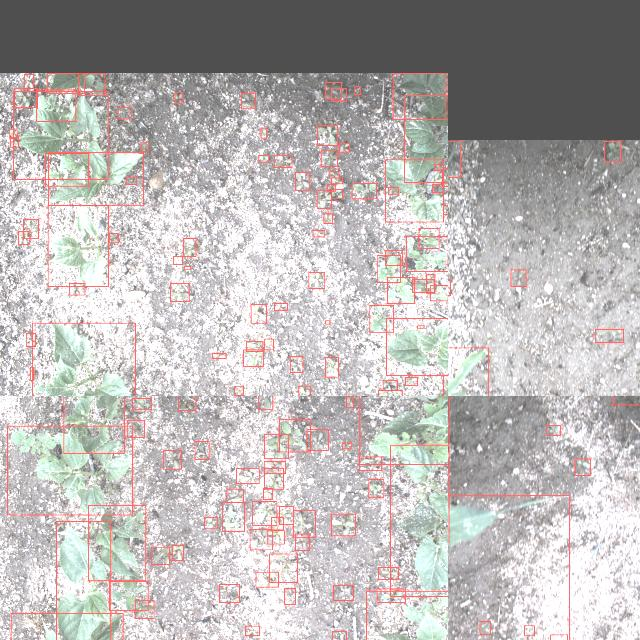crop: (448, 496, 569, 640), (7, 426, 132, 514), (390, 445, 448, 597), (12, 91, 108, 179), (31, 322, 134, 396), (55, 521, 110, 640), (359, 396, 448, 464), (48, 152, 142, 205), (48, 206, 108, 286), (88, 505, 144, 581), (365, 591, 448, 640), (404, 95, 448, 182), (385, 160, 443, 222), (386, 318, 448, 375), (63, 396, 123, 453), (10, 614, 122, 640), (392, 73, 446, 119), (448, 348, 487, 396), (109, 581, 148, 611), (46, 73, 84, 93), (418, 228, 438, 248)
weed: (405, 236, 447, 272), (44, 152, 88, 185), (36, 89, 74, 121), (278, 419, 310, 451), (269, 554, 297, 582), (386, 278, 414, 304), (222, 502, 244, 532), (369, 306, 393, 332), (376, 255, 399, 282), (292, 510, 314, 538), (252, 501, 276, 525), (264, 434, 288, 458), (78, 73, 104, 95), (331, 514, 355, 536), (306, 430, 328, 450), (249, 530, 271, 550), (594, 329, 624, 343), (14, 89, 36, 108), (448, 140, 459, 177), (317, 125, 337, 145), (376, 589, 404, 603), (255, 572, 278, 588), (350, 184, 376, 198), (134, 600, 154, 618), (219, 585, 239, 603), (264, 468, 282, 488), (236, 468, 258, 484), (163, 449, 181, 468), (243, 349, 263, 366), (358, 456, 382, 470), (170, 284, 188, 302), (151, 547, 169, 565), (250, 304, 266, 324), (22, 218, 38, 238), (604, 141, 620, 161), (368, 478, 384, 498), (126, 419, 144, 436), (384, 250, 402, 266), (294, 172, 310, 190), (320, 150, 338, 166), (574, 458, 590, 476), (429, 285, 448, 300), (324, 357, 338, 377), (332, 586, 352, 600), (412, 280, 434, 292), (263, 461, 285, 473), (308, 272, 324, 288), (325, 82, 341, 98), (510, 270, 526, 286), (294, 534, 310, 550), (316, 190, 330, 208), (194, 441, 208, 459), (278, 506, 292, 524), (266, 530, 284, 544), (378, 567, 398, 579), (225, 489, 242, 503), (177, 396, 195, 409), (241, 92, 255, 108), (612, 396, 640, 404), (131, 398, 151, 409), (183, 238, 195, 256), (274, 155, 292, 167), (290, 357, 302, 373), (330, 88, 346, 100), (68, 283, 84, 295), (258, 396, 272, 409), (426, 274, 434, 294), (246, 341, 262, 351), (244, 626, 260, 636), (284, 588, 294, 604), (118, 107, 130, 119), (204, 516, 216, 528), (271, 518, 283, 530), (382, 381, 396, 391), (23, 74, 33, 88), (172, 546, 182, 560), (546, 425, 560, 435), (17, 232, 28, 244), (441, 169, 448, 187), (442, 375, 448, 396), (332, 631, 346, 640), (378, 391, 402, 396), (479, 622, 489, 634), (298, 386, 309, 396), (262, 488, 272, 499), (549, 634, 566, 640), (322, 213, 332, 223), (339, 142, 349, 152), (108, 233, 118, 243), (524, 626, 534, 636), (405, 377, 417, 385), (26, 334, 34, 346), (174, 91, 182, 102), (331, 190, 342, 198), (264, 338, 272, 349), (312, 230, 324, 237), (140, 141, 148, 151), (172, 256, 182, 264), (432, 184, 442, 192), (258, 154, 268, 162), (234, 386, 242, 396), (10, 137, 18, 147), (126, 176, 136, 184), (274, 304, 286, 310), (329, 170, 338, 178), (388, 188, 398, 195), (326, 183, 336, 190), (331, 178, 342, 184), (346, 397, 352, 408), (260, 128, 266, 138), (211, 354, 225, 358), (29, 367, 33, 381), (342, 443, 351, 449), (354, 86, 360, 94), (10, 130, 16, 138), (443, 205, 448, 214), (434, 164, 438, 170), (184, 266, 190, 270), (416, 326, 424, 328), (325, 321, 329, 324)
